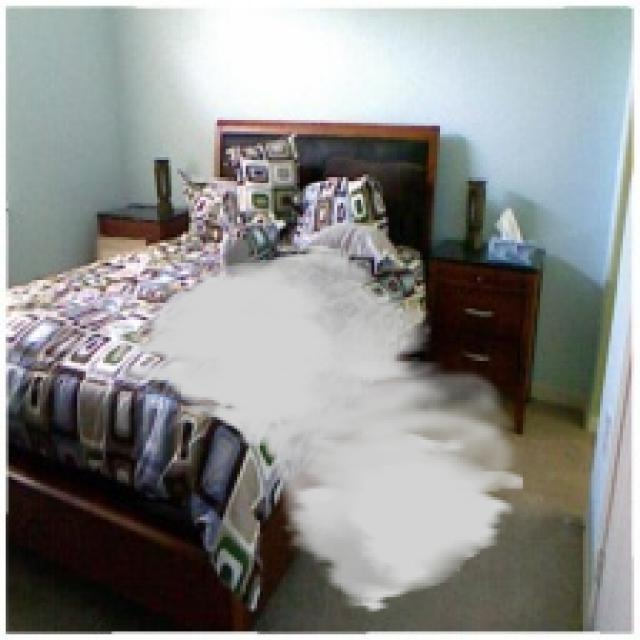smoke: (120, 243, 526, 614)
